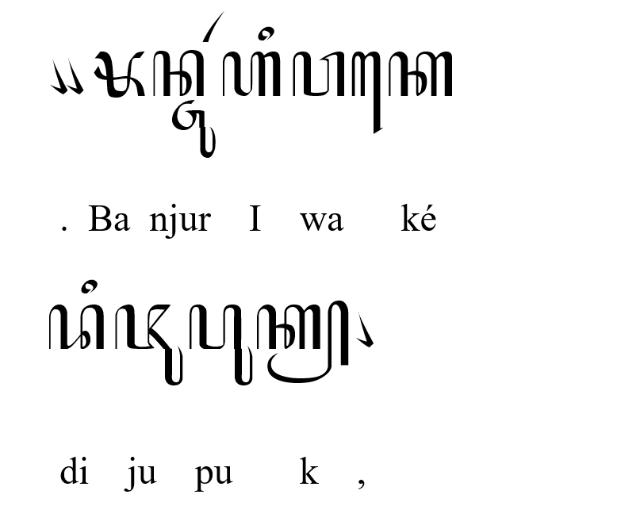-k: (256, 300, 350, 385)
B: (95, 49, 147, 97)
_ju: (170, 99, 216, 159)
_r1: (201, 10, 225, 42)
d: (48, 304, 104, 350)
e1: (351, 50, 384, 136)
h: (222, 50, 280, 98)
i: (81, 279, 99, 294), (258, 26, 274, 41)
ju: (113, 302, 183, 386)
k: (388, 50, 452, 96)
kom: (48, 58, 68, 94), (64, 58, 84, 94), (356, 308, 374, 348)
n: (152, 49, 204, 97)
pu: (188, 304, 254, 386)
w: (291, 51, 345, 97)
